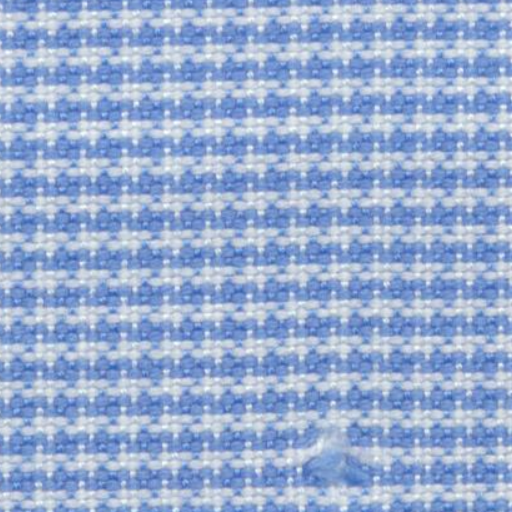MianQiu: (281, 414, 395, 500)
